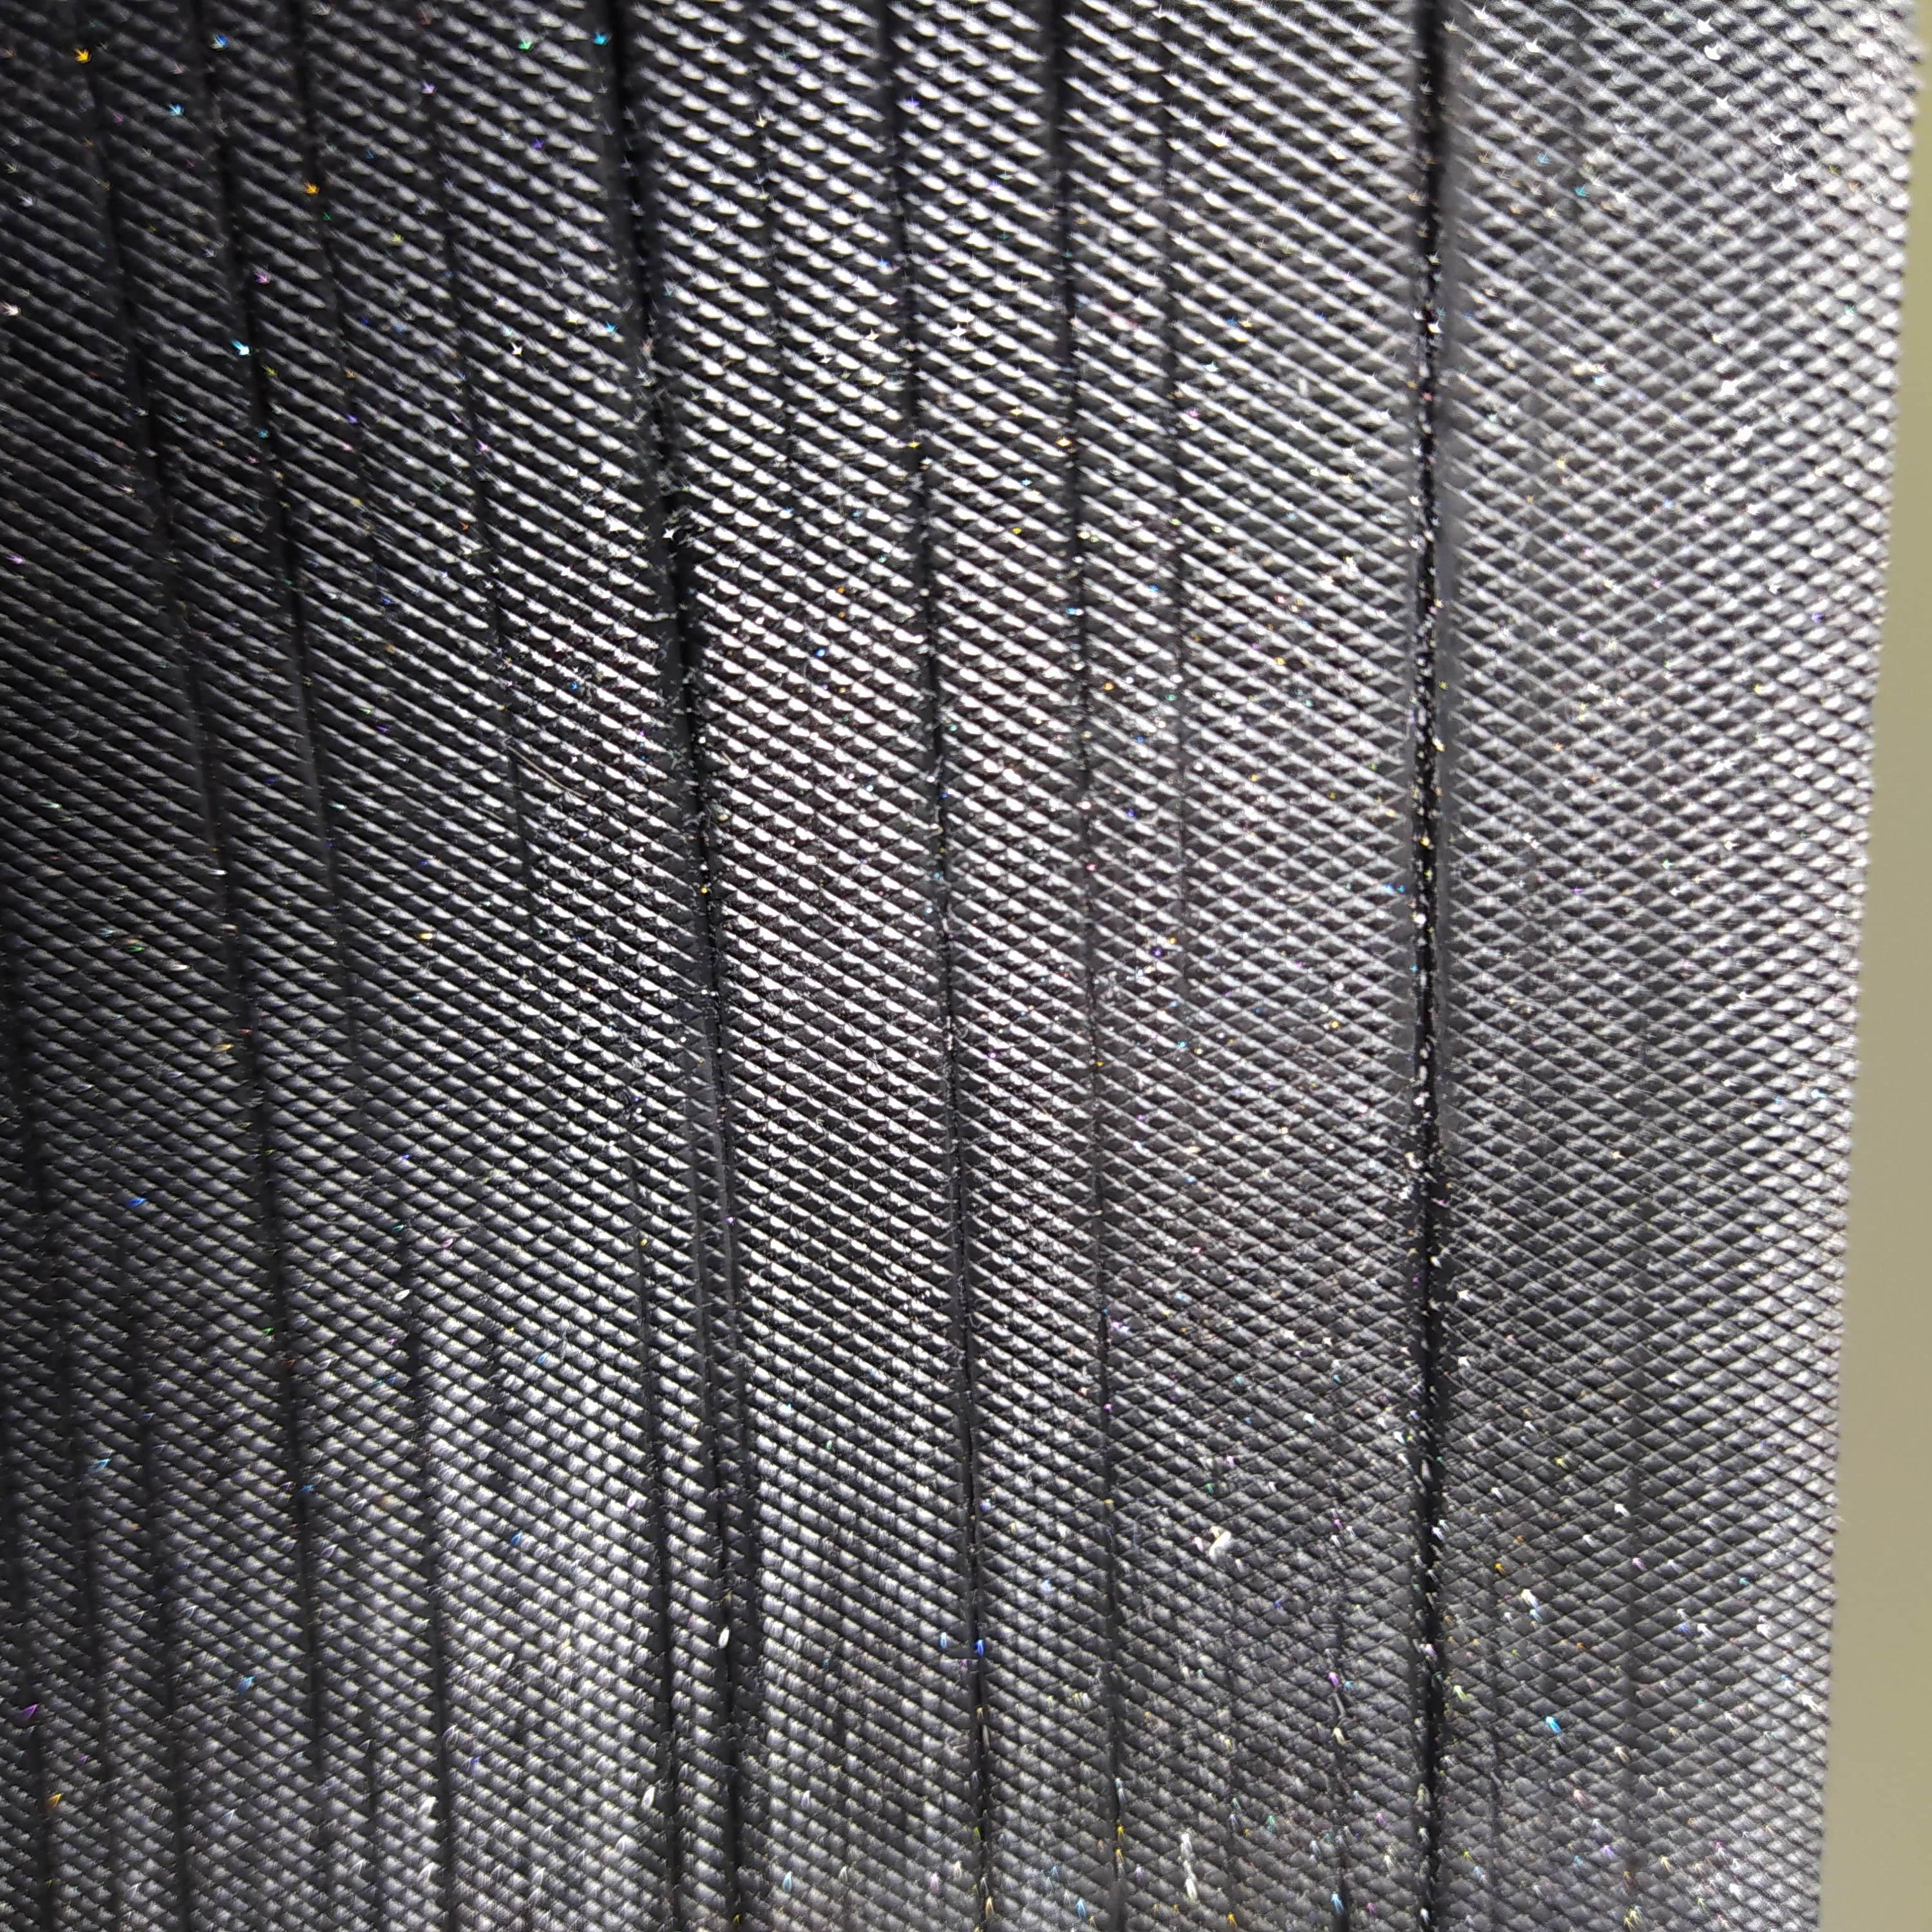friso grande: (1016, 9, 1111, 635), (1401, 725, 1451, 1442), (1394, 4, 1460, 425), (580, 5, 681, 274), (932, 1044, 987, 1507), (1398, 1440, 1449, 1930), (899, 428, 959, 796), (1060, 632, 1113, 1037), (870, 129, 936, 437), (959, 1497, 1003, 1930), (1399, 432, 1447, 729), (639, 1361, 686, 1652), (234, 1030, 294, 1260), (1070, 1033, 1123, 1290), (607, 272, 681, 448), (179, 619, 241, 828), (142, 391, 196, 626), (711, 1615, 766, 1847), (699, 1398, 759, 1608), (630, 453, 702, 626), (288, 1474, 329, 1782), (0, 945, 51, 1168), (1092, 1560, 1134, 1829), (104, 188, 156, 400), (686, 1030, 745, 1215), (656, 632, 709, 835), (126, 1396, 180, 1589), (27, 1166, 78, 1369), (697, 1219, 757, 1392), (145, 1591, 200, 1780), (929, 787, 968, 1047), (651, 1647, 686, 1930), (1086, 1290, 1122, 1562), (115, 1203, 159, 1405), (216, 824, 258, 1031), (9, 1576, 51, 1780), (81, 1576, 124, 1778), (863, 0, 925, 134), (274, 1256, 311, 1479), (76, 4, 119, 193), (685, 846, 727, 1030), (226, 249, 271, 421), (177, 9, 232, 140), (147, 1785, 203, 1907), (421, 1783, 474, 1911), (25, 1775, 73, 1914), (62, 1369, 94, 1573), (92, 1767, 134, 1913), (280, 635, 327, 757), (267, 499, 310, 632), (1092, 1838, 1146, 1932), (715, 1847, 770, 1927), (306, 750, 341, 869), (212, 140, 249, 246), (249, 421, 294, 497)
friso pequeno: (1141, 5, 1207, 1051), (1311, 1307, 1371, 1932), (1619, 1154, 1665, 1897), (492, 591, 545, 932), (621, 1115, 672, 1375), (456, 341, 506, 600), (322, 872, 377, 1104), (1479, 1555, 1511, 1925), (432, 131, 483, 349), (391, 1215, 439, 1433), (403, 1422, 456, 1608), (410, 1612, 464, 1776), (759, 301, 803, 487), (729, 2, 780, 161), (752, 152, 796, 306), (356, 494, 400, 642), (278, 9, 329, 131), (789, 488, 819, 692), (299, 140, 341, 281), (299, 1780, 338, 1911), (324, 281, 361, 396), (338, 400, 375, 499)
